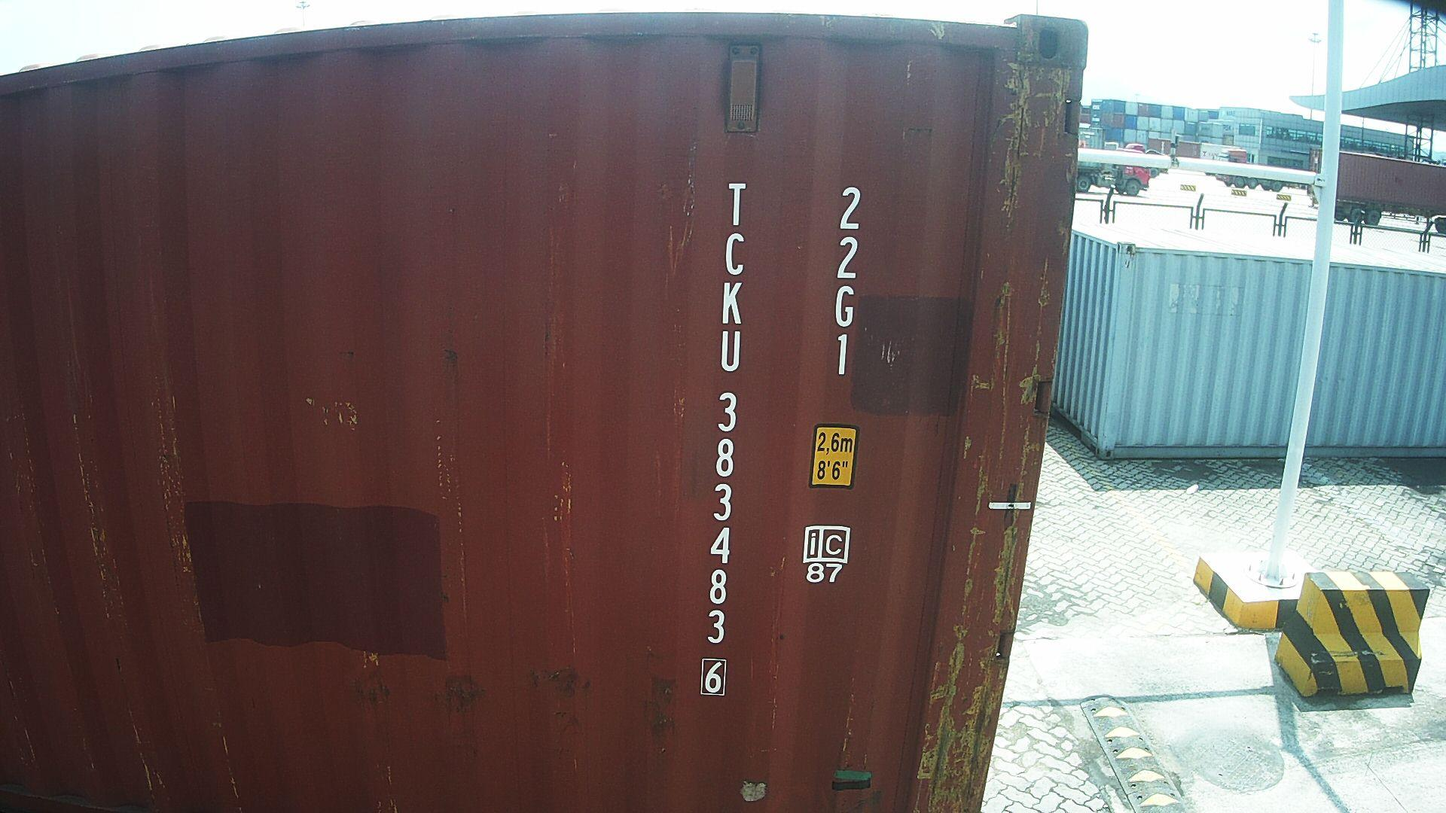container-numbers: (697, 175, 749, 703), (825, 181, 868, 382)
